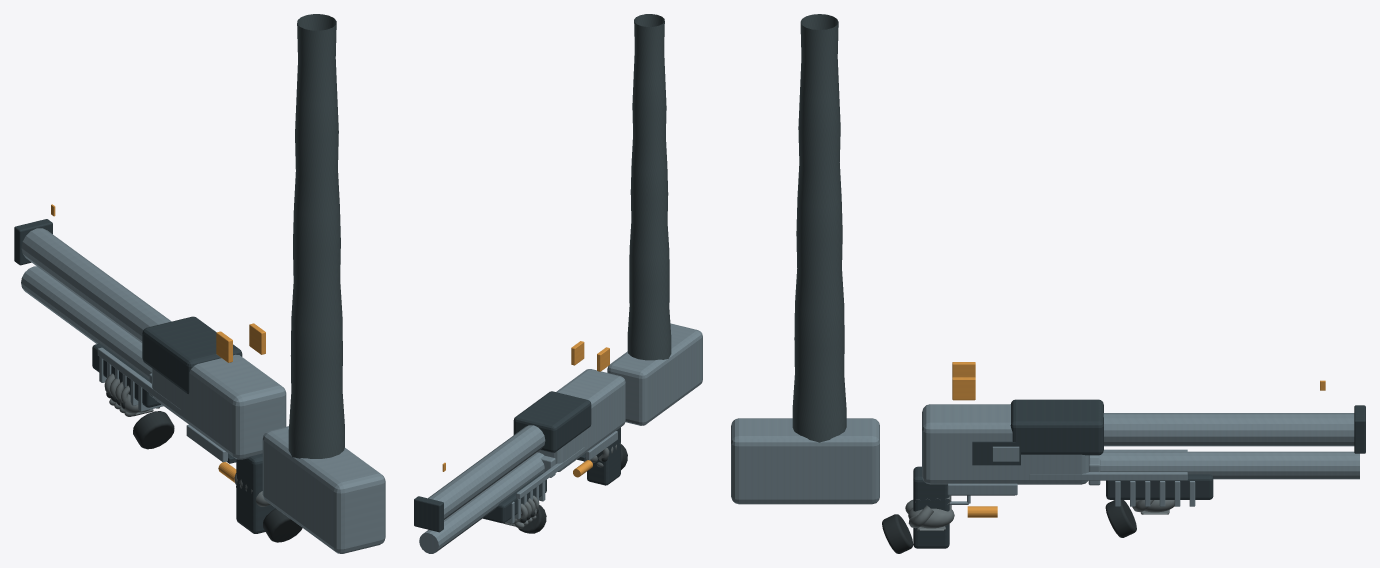
The model's file is pump-breacher.glb.
3 views of the same model, side by side, from view 1: azimuth 30°, elevation 25°; view 2: azimuth 150°, elevation 25°; view 3: azimuth 270°, elevation 25° (orthographic). The views are drawn at different scales.
Visible parts, largest first — view 1: Receiver, Woven forearm.001, SupportGlove, GripGlove, Pump; view 2: Receiver, Woven forearm.001, SupportGlove, Pump; view 3: Receiver, Woven forearm.001, GripGlove, Pump, SupportGlove.
Part boxes in pixels (bbox=[...]): Receiver: bbox=[14, 204, 385, 553]; Woven forearm.001: bbox=[288, 14, 344, 458]; SupportGlove: bbox=[104, 373, 174, 449]; GripGlove: bbox=[234, 473, 302, 542]; Pump: bbox=[92, 343, 161, 407]; Receiver: bbox=[414, 323, 702, 553]; Woven forearm.001: bbox=[627, 14, 671, 360]; SupportGlove: bbox=[503, 495, 546, 533]; Pump: bbox=[483, 473, 546, 523]; Receiver: bbox=[731, 362, 1365, 548]; Woven forearm.001: bbox=[792, 14, 846, 442]; GripGlove: bbox=[882, 495, 954, 553]; Pump: bbox=[1106, 474, 1213, 499]; SupportGlove: bbox=[1105, 500, 1174, 537].
Bounding box in the file's own units: 0.1428 × 1.25 × 1.36.
Materials: 7 (7 with a texture image).
